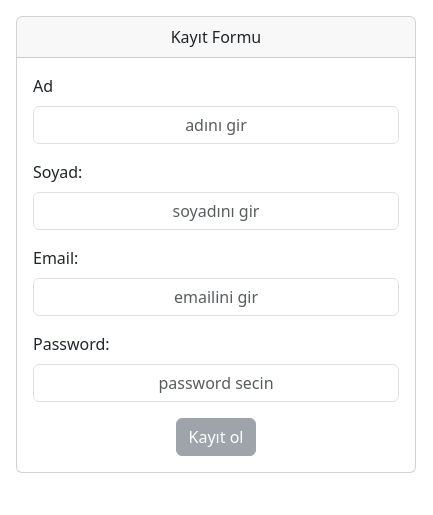
Test case: register sayfasi › error messages › name input throws error for 2 chars
This screenshot has width=433, height=515.
Type "em" into the field with test id "ad-input" at (216, 125), box [33,106,399,144]
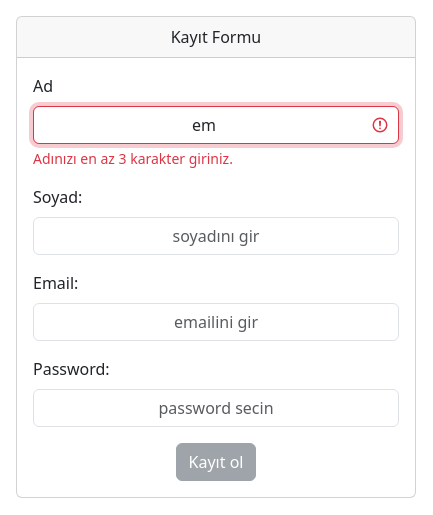
Now the text "Adınızı en az 3 karakter giriniz." is shown, box [33,149,233,168]
